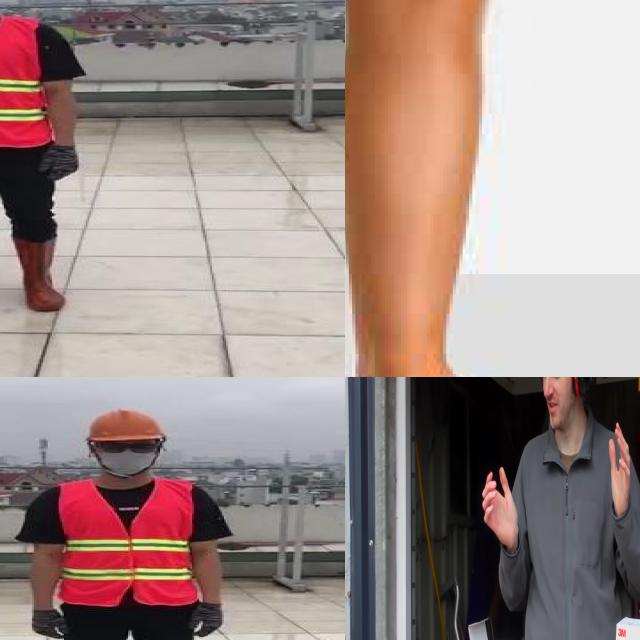Ear-protection: (543, 377, 599, 430)
boots: (8, 238, 72, 312)
face_mask: (88, 436, 164, 474)
glasses: (91, 438, 161, 456)
hand_glove: (23, 608, 71, 640), (38, 148, 82, 182), (190, 603, 224, 637)
head_helmet: (81, 406, 170, 444)
person: (8, 406, 235, 640), (472, 377, 640, 640), (0, 0, 93, 317)
vest: (59, 480, 201, 605), (0, 19, 48, 148)
